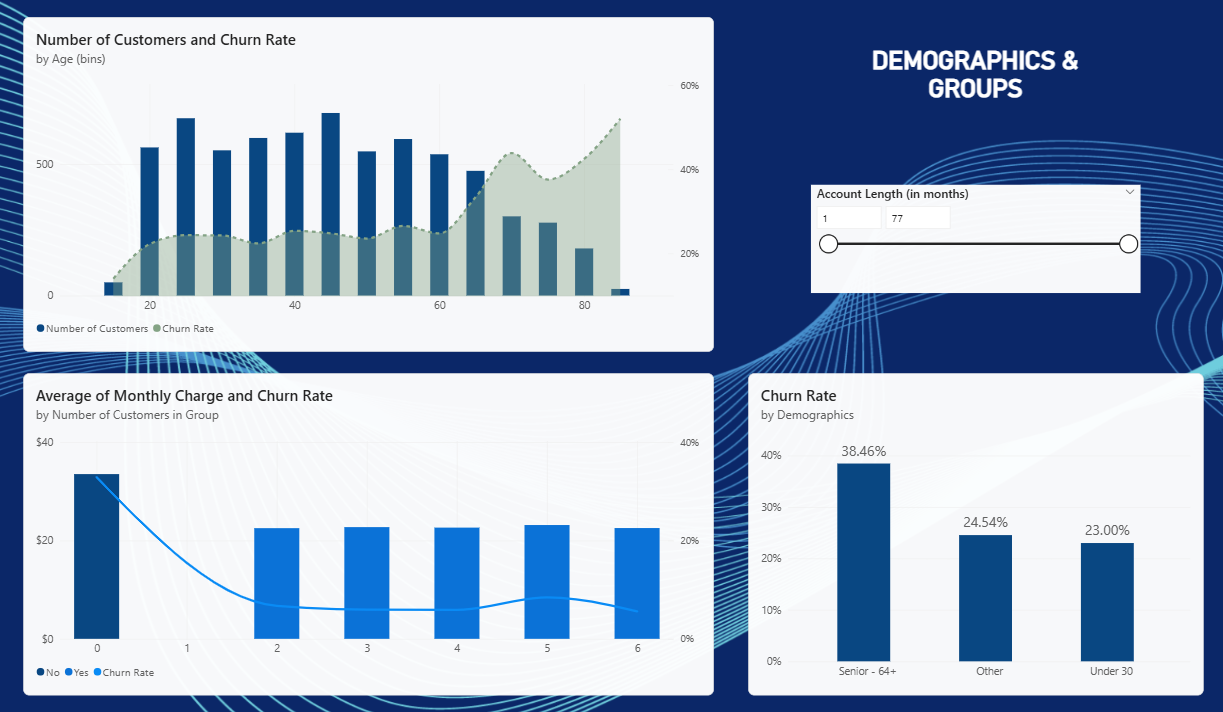

The dashboard page shown, as its layout file describes it:
{"tool":"powerbi","page":{"name":"Age Groups","canvas":[1640,960],"ordinal":1},"visuals":[{"type":"lineStackedColumnComboChart","fields":{"Y2":["_Calculations.Churn Rate"],"Y":["_Calculations.Number of Customers"],"Category":["Databel.Age (bins)"]},"box":[34.5,32.8,920.7,446.6],"z":0},{"type":"lineStackedColumnComboChart","title":"Average of Monthly Charge and Churn Rate","fields":{"Y":["Avg(Databel.Monthly Charge)"],"Y2":["_Calculations.Churn Rate"],"Series":["Databel.Group"],"Category":["Databel.Number of Customers in Group"]},"box":[34.5,508.6,920.7,429.3],"z":1000},{"type":"slicer","fields":{"Values":["Databel.Account Length (in months)"]},"box":[1084.5,256.9,439.7,144.8],"z":2000},{"type":"columnChart","fields":{"Y":["_Calculations.Churn Rate"],"Category":["Databel.Demographics"]},"box":[1001.7,508.6,606.9,429.3],"z":3000},{"type":"textbox","box":[1115.5,72.4,379.3,117.2],"z":4000}]}

Visuals, with their boxes in screenshot pixels (x1, y1, x2, y2), scaled from the page's 1640x960 canvas onto the 1223x712 screenshot:
lineStackedColumnComboChart - _Calculations.Churn Rate x _Calculations.Number of Customers: <region>26, 24, 712, 356</region>
"Average of Monthly Charge and Churn Rate" lineStackedColumnComboChart: <region>26, 377, 712, 696</region>
slicer - Databel.Account Length (in months): <region>809, 191, 1137, 298</region>
columnChart - _Calculations.Churn Rate x Databel.Demographics: <region>747, 377, 1200, 696</region>
textbox: <region>832, 54, 1115, 141</region>
